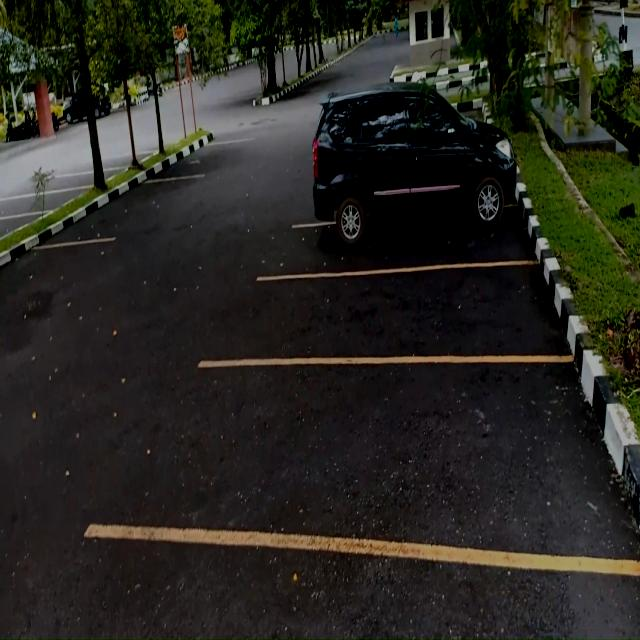empty: (141, 346, 634, 557), (255, 264, 582, 365), (94, 178, 195, 242), (172, 140, 242, 175), (0, 192, 74, 218), (38, 172, 98, 192)
occupied: (287, 110, 543, 271)
